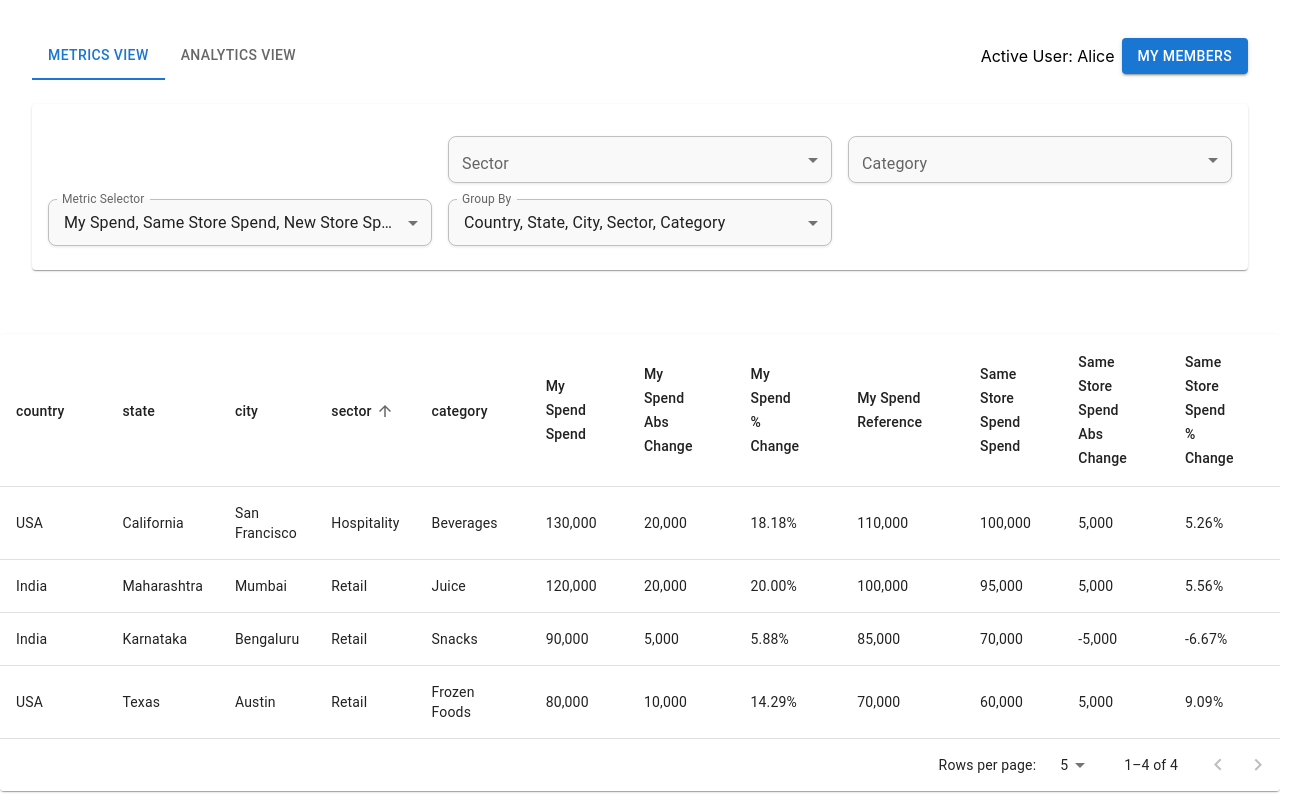
Test: Dashboard Component › updates sector filter
Click the 1st dropdown named "sector": (640, 160) [448,136,832,183]
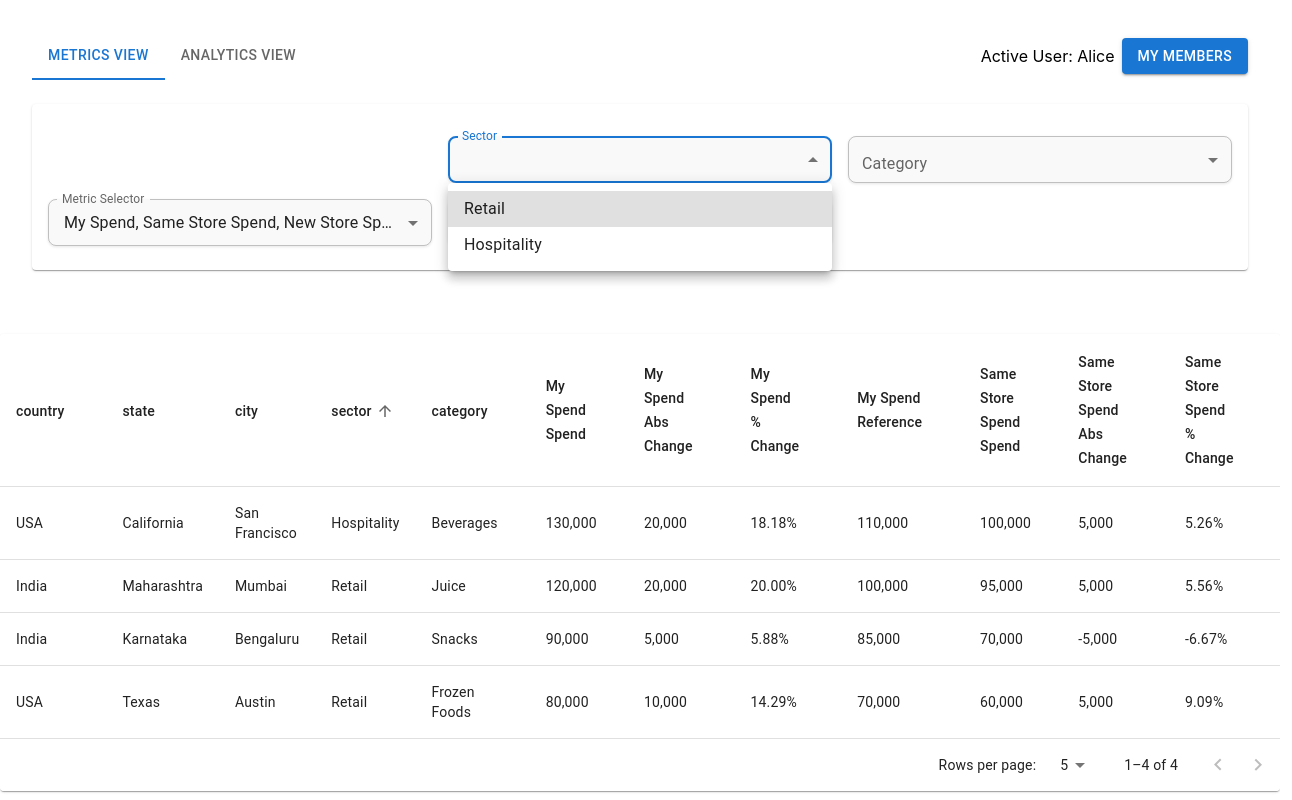
Click the option "Retail": (484, 208) [448,191,832,227]
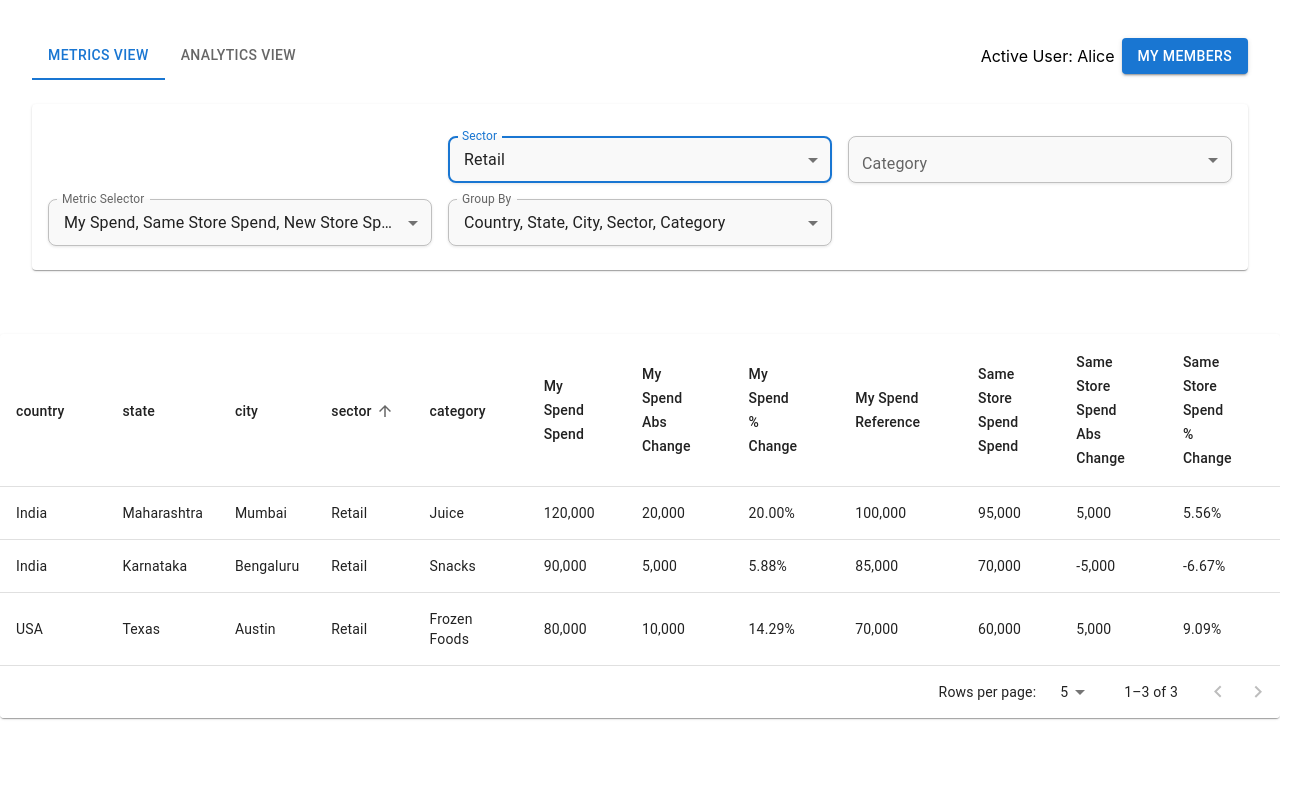
Expected: the dropdown named "sector" reads "Retail", [464,150,505,169]
